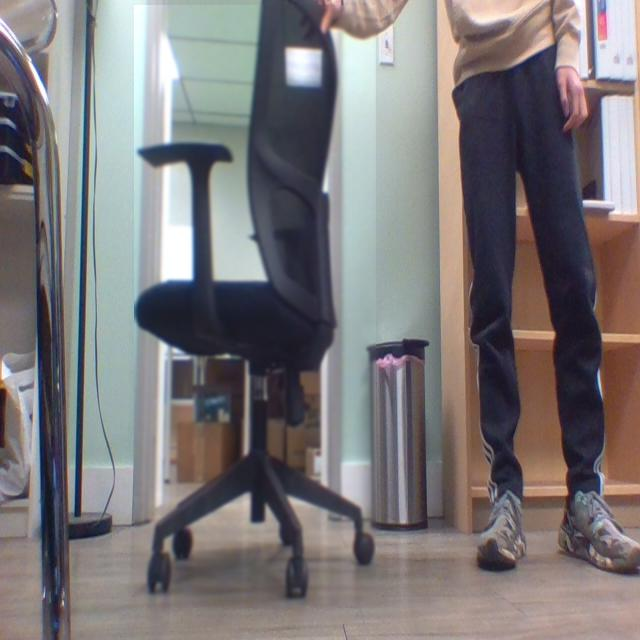black-chair: (134, 5, 377, 607)
